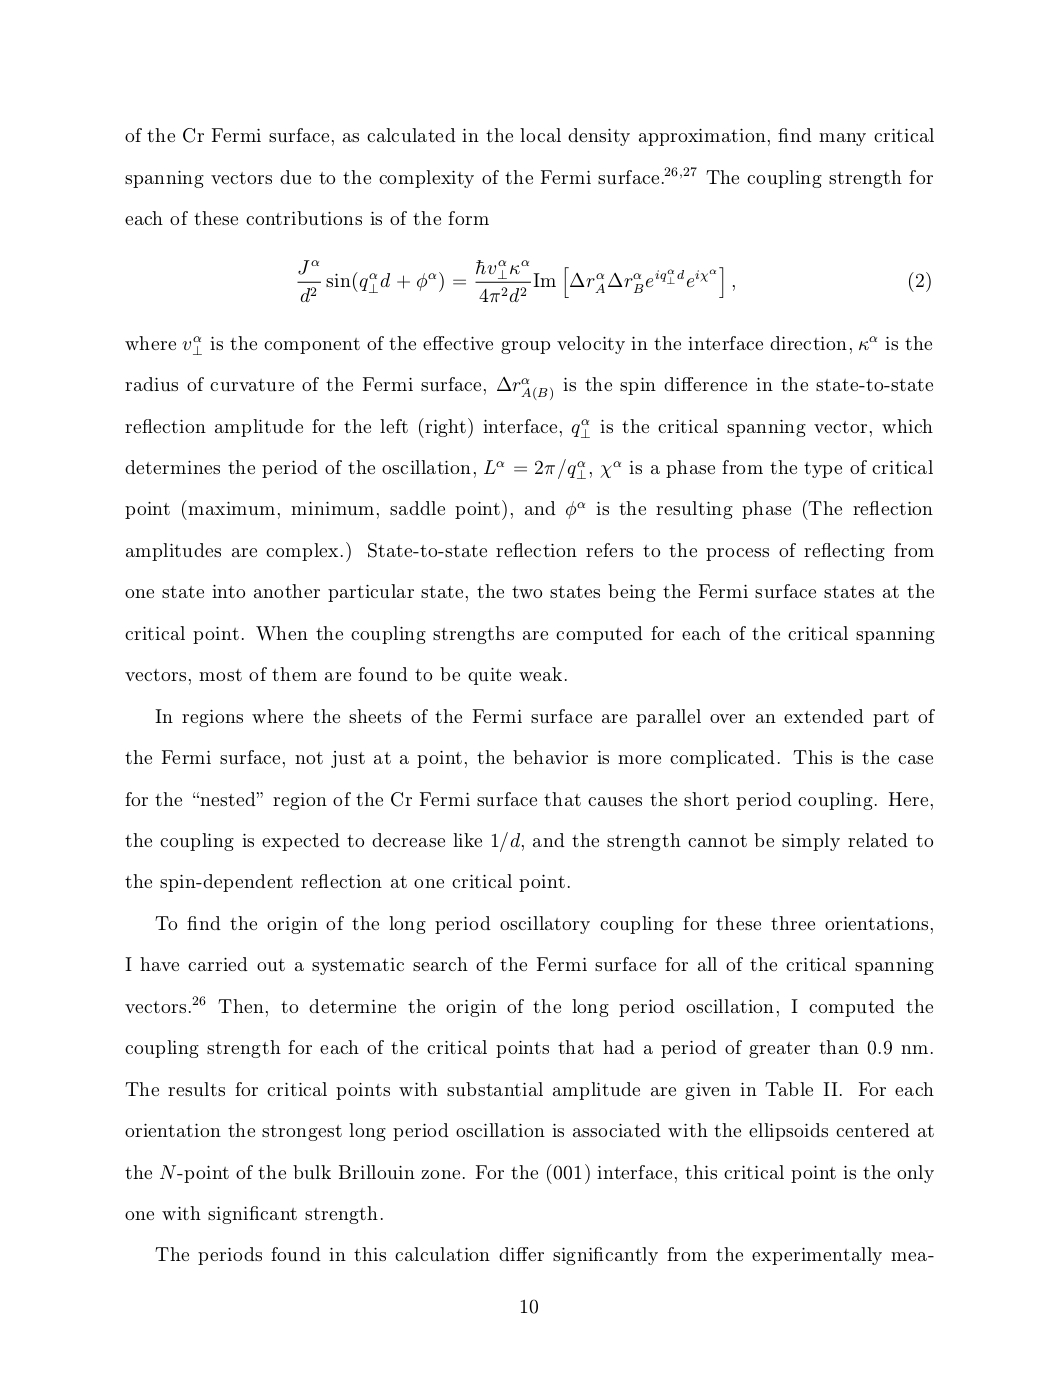formula: (296, 259, 929, 303)
